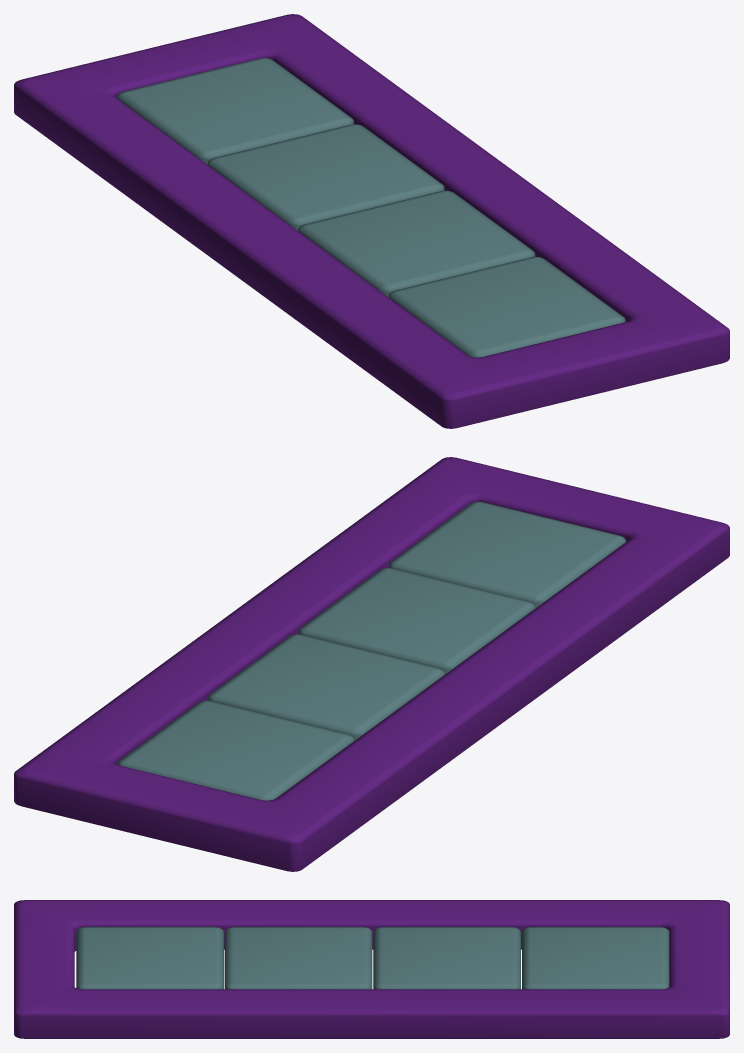
The model's file is plat2.obj.
3 views of the same model, one above another, from view 1: azimuth 30°, elevation 25°; view 2: azimuth 150°, elevation 25°; view 3: azimuth 270°, elevation 25° (orthographic). The views are drawn at different scales.
Parts seen in each view (by area): view 1: Cube_Cube, Cube.003_Cube.001, Cube.004_Cube.001, Cube.002_Cube.001, Cube.001_Cube.001; view 2: Cube_Cube, Cube.002_Cube.001, Cube.003_Cube.001, Cube.001_Cube.001, Cube.004_Cube.001; view 3: Cube_Cube, Cube.002_Cube.001, Cube.003_Cube.001, Cube.001_Cube.001, Cube.004_Cube.001.
Boxes of the visible parts, bbox=[...] form: Cube_Cube: bbox=[14, 14, 729, 428]; Cube.003_Cube.001: bbox=[207, 124, 444, 230]; Cube.004_Cube.001: bbox=[116, 58, 353, 164]; Cube.002_Cube.001: bbox=[298, 190, 535, 296]; Cube.001_Cube.001: bbox=[388, 257, 625, 357]; Cube_Cube: bbox=[14, 457, 729, 871]; Cube.002_Cube.001: bbox=[298, 568, 535, 674]; Cube.003_Cube.001: bbox=[208, 634, 444, 740]; Cube.001_Cube.001: bbox=[389, 501, 626, 607]; Cube.004_Cube.001: bbox=[117, 700, 354, 800]; Cube_Cube: bbox=[14, 900, 729, 1038]; Cube.002_Cube.001: bbox=[224, 927, 372, 989]; Cube.003_Cube.001: bbox=[373, 927, 520, 989]; Cube.001_Cube.001: bbox=[76, 927, 223, 989]; Cube.004_Cube.001: bbox=[522, 927, 669, 989].
Bounding box in the file's own units: 30.96 × 3.5 × 81.46.
